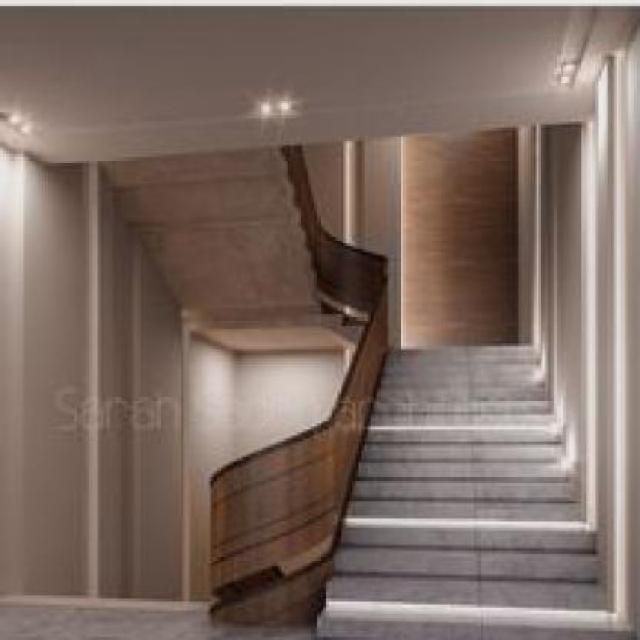stair: (281, 272, 637, 637)
